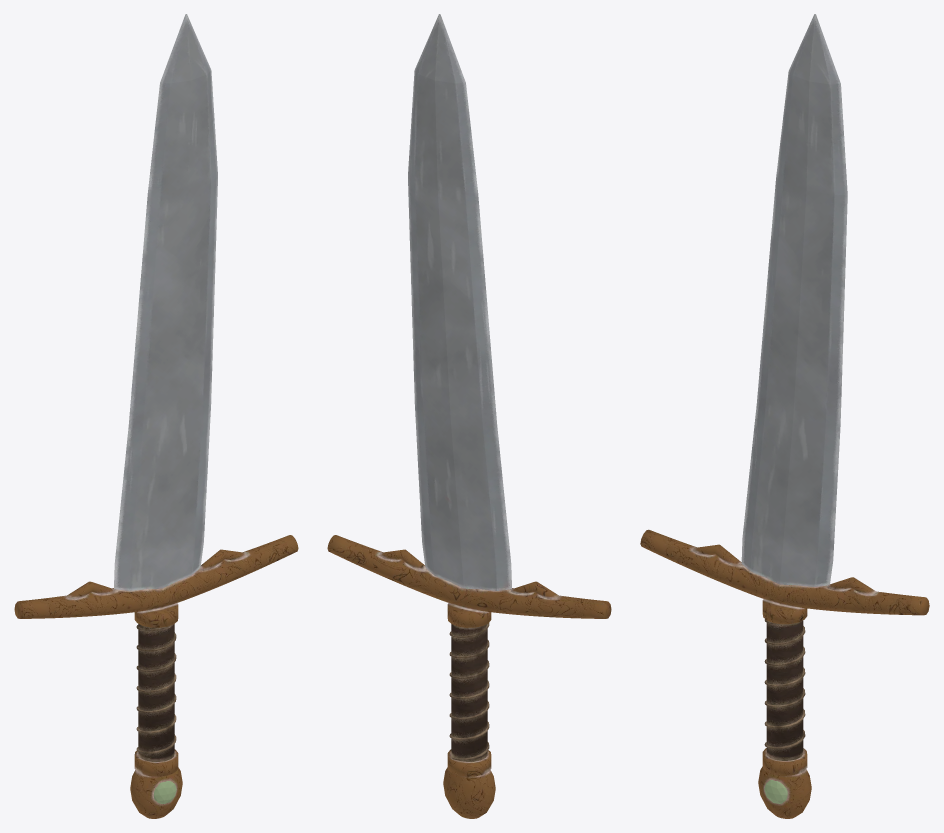
File: eq_sword_4.glb
3 renders of one model, left to right at view 1: azimuth 30°, elevation 25°; view 2: azimuth 150°, elevation 25°; view 3: azimuth 330°, elevation 25°, orthographic.
Parts seen in each view (by area): view 1: eq_sword_4; view 2: eq_sword_4; view 3: eq_sword_4.
Boxes of the visible parts, x1,y1,x2,y2 form: eq_sword_4: (14, 14, 298, 818); eq_sword_4: (327, 14, 611, 818); eq_sword_4: (640, 14, 929, 818).
Bounding box in the file's own units: 0.4202 × 1.15 × 0.059.
1 material, 1 textured.
